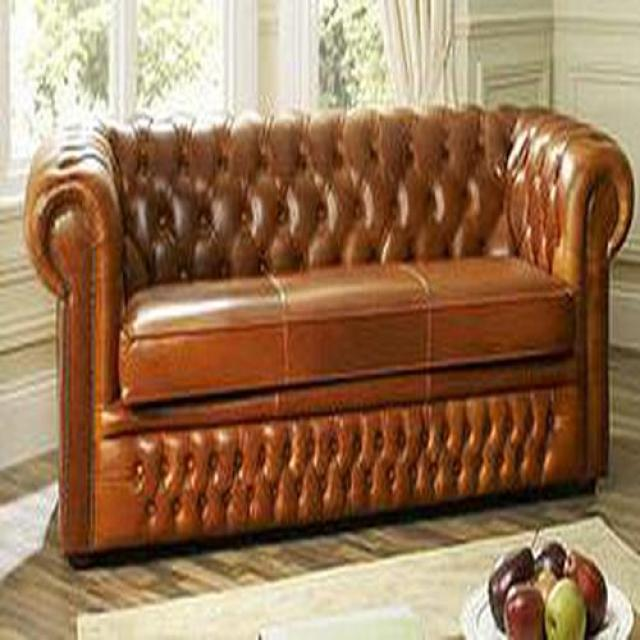sofa: (23, 106, 636, 572)
